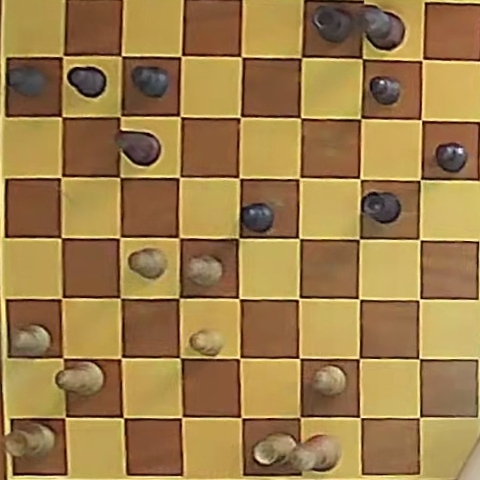black-king: (356, 4, 405, 50)
black-knight: (116, 131, 160, 167)
black-pawn: (67, 65, 107, 98), (7, 65, 47, 97), (131, 65, 169, 98), (436, 143, 468, 173), (241, 203, 274, 232), (370, 76, 401, 105)
black-rook: (312, 5, 354, 43), (361, 192, 401, 224)
white-bishop: (57, 361, 103, 395)
white-king: (291, 434, 341, 472)
white-pawn: (11, 324, 51, 356), (129, 248, 167, 279), (186, 255, 223, 286), (312, 366, 346, 396), (190, 329, 224, 356)
white-rook: (5, 422, 56, 459), (253, 433, 297, 466)
